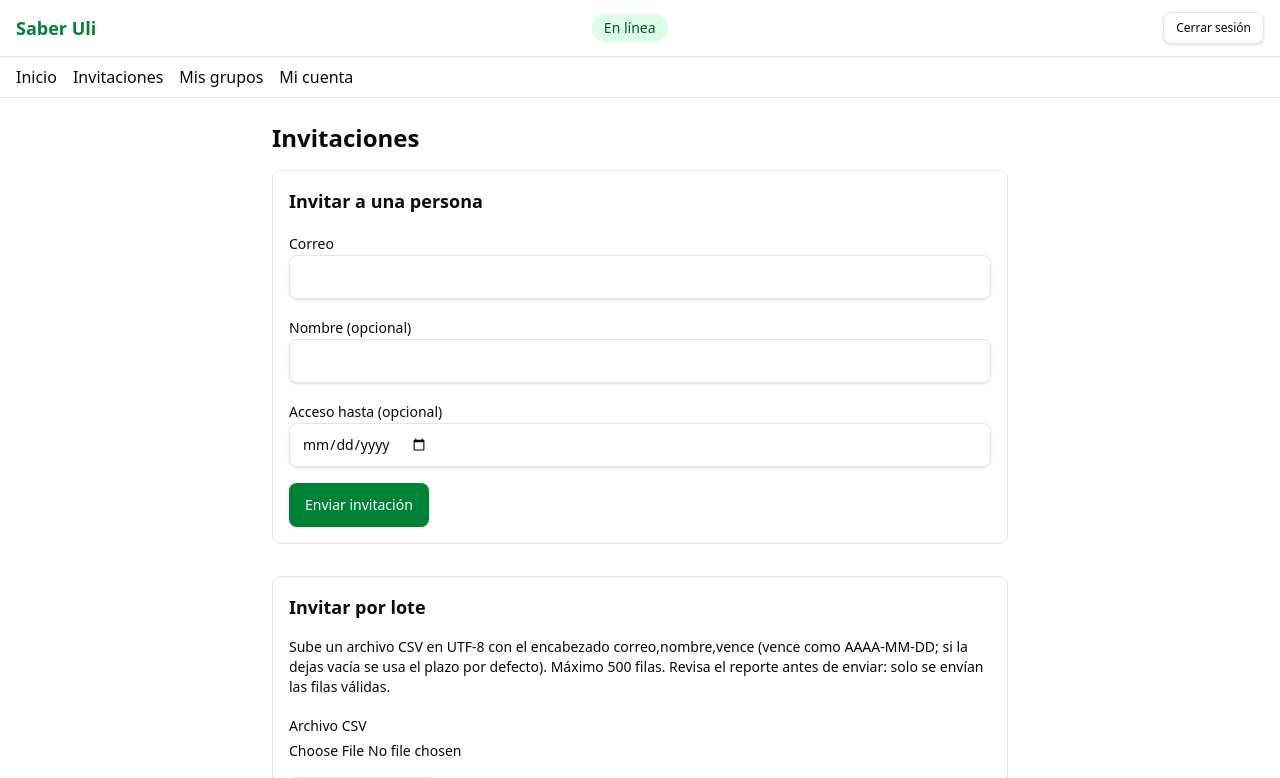
invitar a una persona › envía correo, nombre y vencimiento al final del día elegido en Colombia
This screenshot has width=1280, height=778.
In the field labelled "Correo": x=640, y=277 x1=289 y1=255 x2=991 y2=299, type "laura@correo.co"
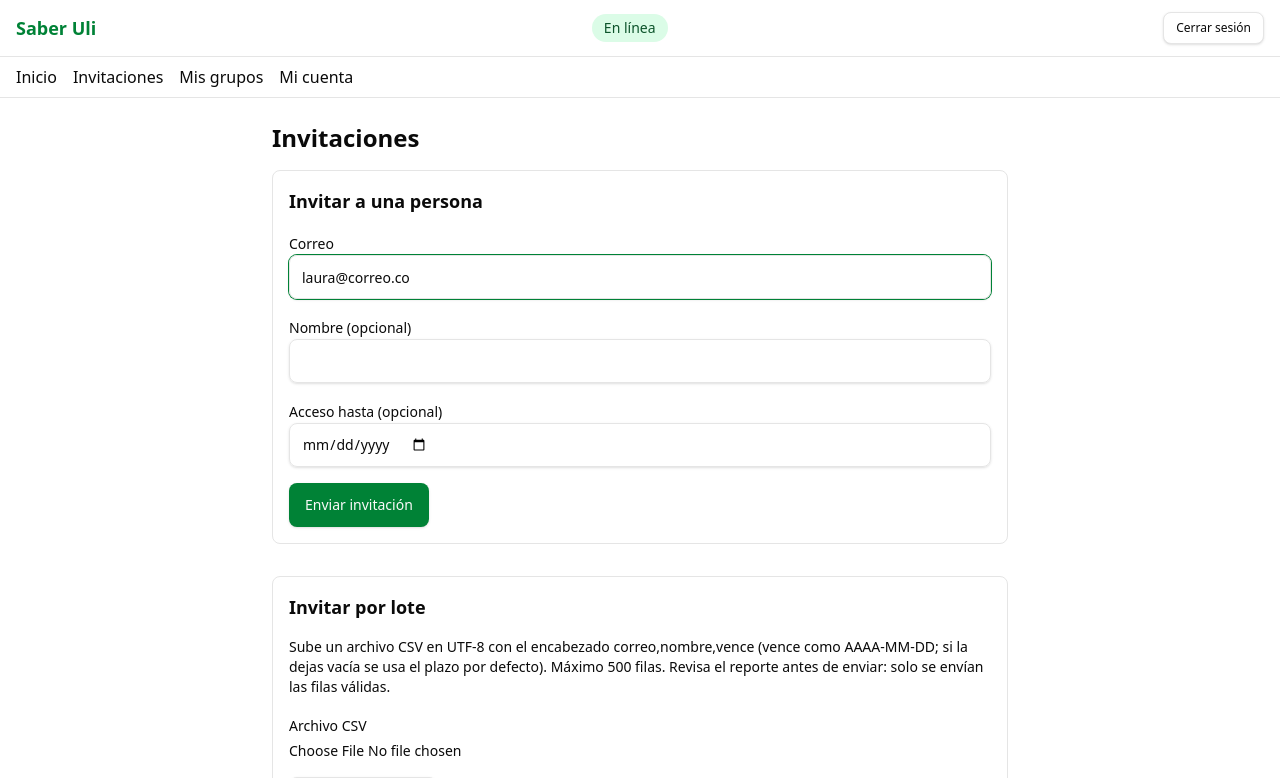
In the field labelled "Nombre (opcional)": x=640, y=361 x1=289 y1=339 x2=991 y2=383, type "Laura Gómez"
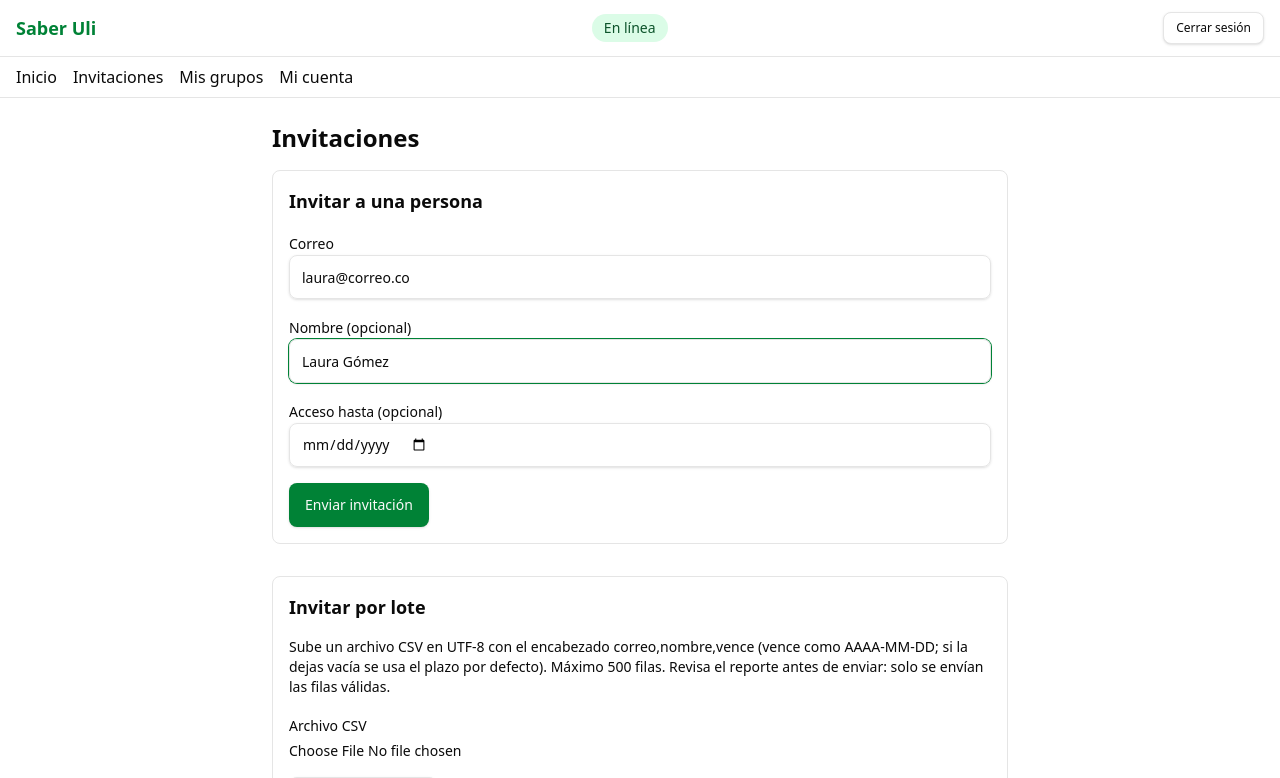
In the date field labelled "Acceso hasta (opcional)": x=640, y=445 x1=289 y1=423 x2=991 y2=467, type "2027-01-04"
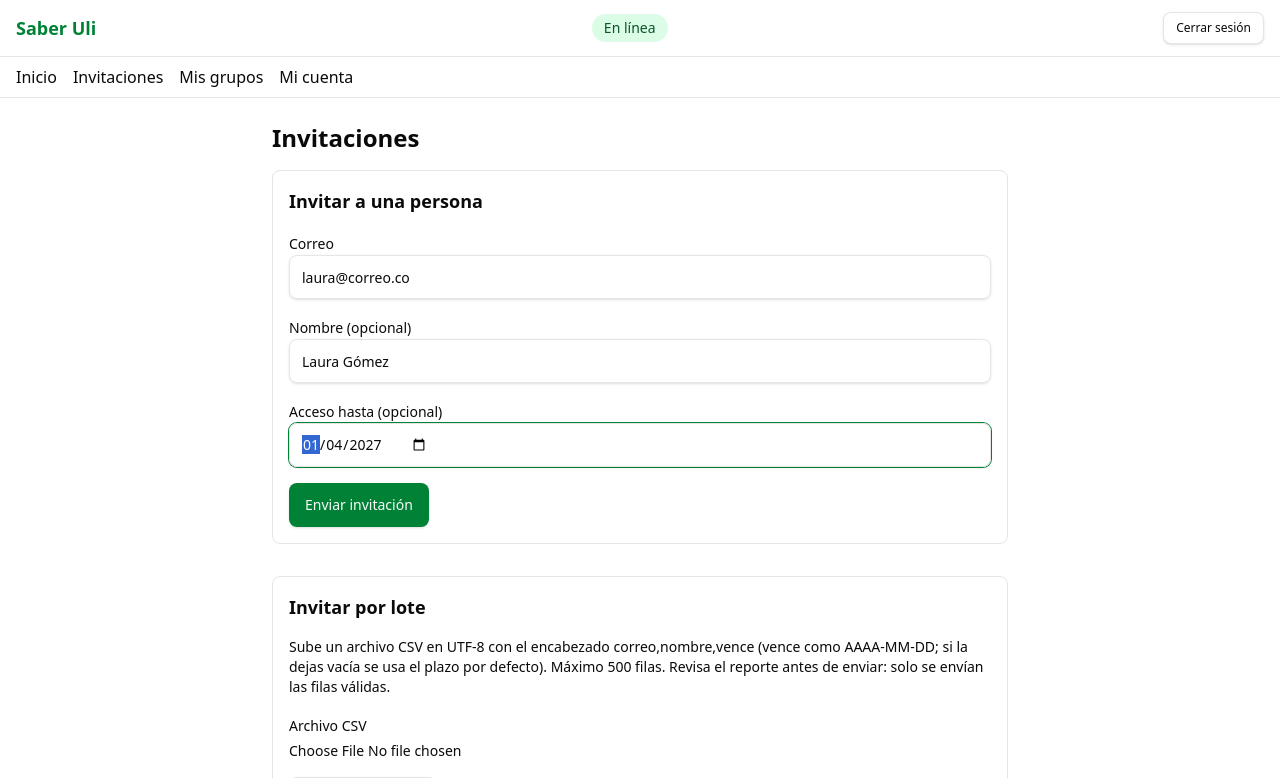
Click the button "Enviar invitación": x=359, y=505 x1=289 y1=483 x2=429 y2=527
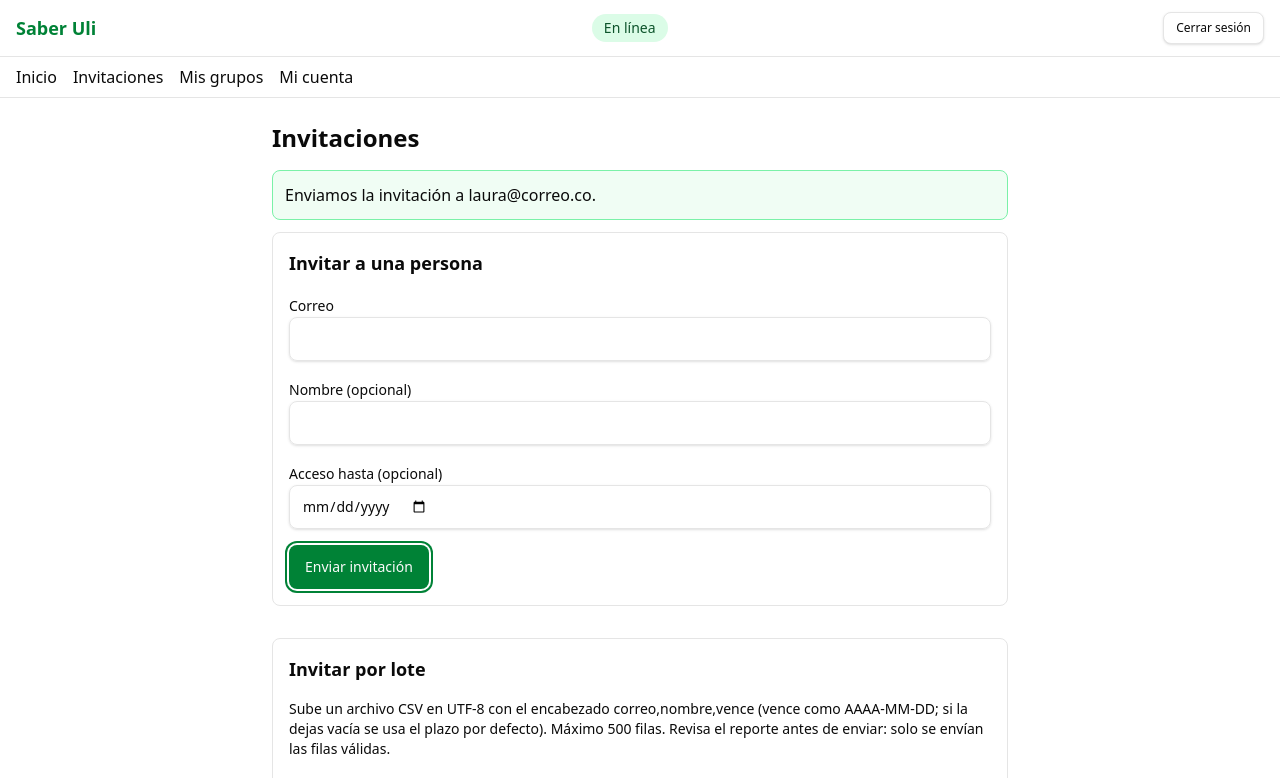
expect the text "Enviamos la invitación a laura@correo.co." is shown: met, box x1=272 y1=170 x2=1008 y2=220
